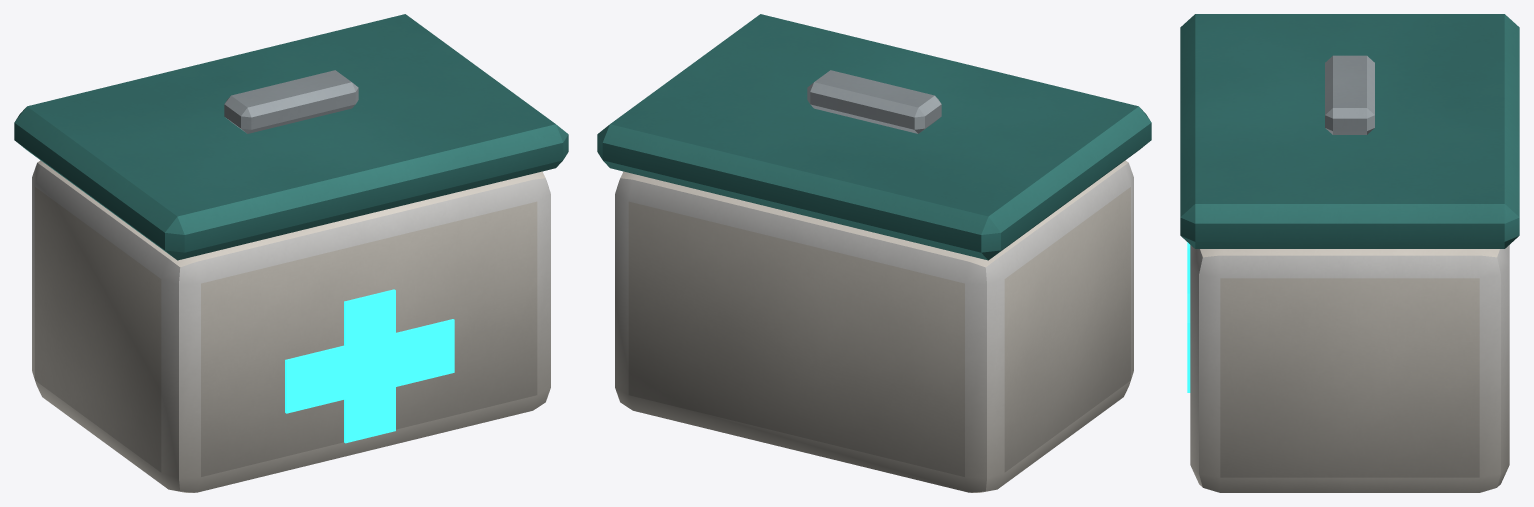
The picture shows the model from 3 angles, left to right: view 1: azimuth 30°, elevation 25°; view 2: azimuth 150°, elevation 25°; view 3: azimuth 270°, elevation 25°; orthographic projection. The views are drawn at different scales.
Visible parts, largest first — view 1: shield-pack_metal, shield-pack_glow; view 2: shield-pack_metal; view 3: shield-pack_metal, shield-pack_glow.
Boxes of the visible parts, box(x1,y1,x2,y2) form: shield-pack_metal: box(14, 14, 568, 492); shield-pack_glow: box(285, 289, 454, 443); shield-pack_metal: box(597, 14, 1151, 492); shield-pack_metal: box(1180, 14, 1519, 492); shield-pack_glow: box(1187, 242, 1190, 392).
Bounding box in the file's own units: 0.48 × 0.36 × 0.34.
2 materials, 1 textured.
